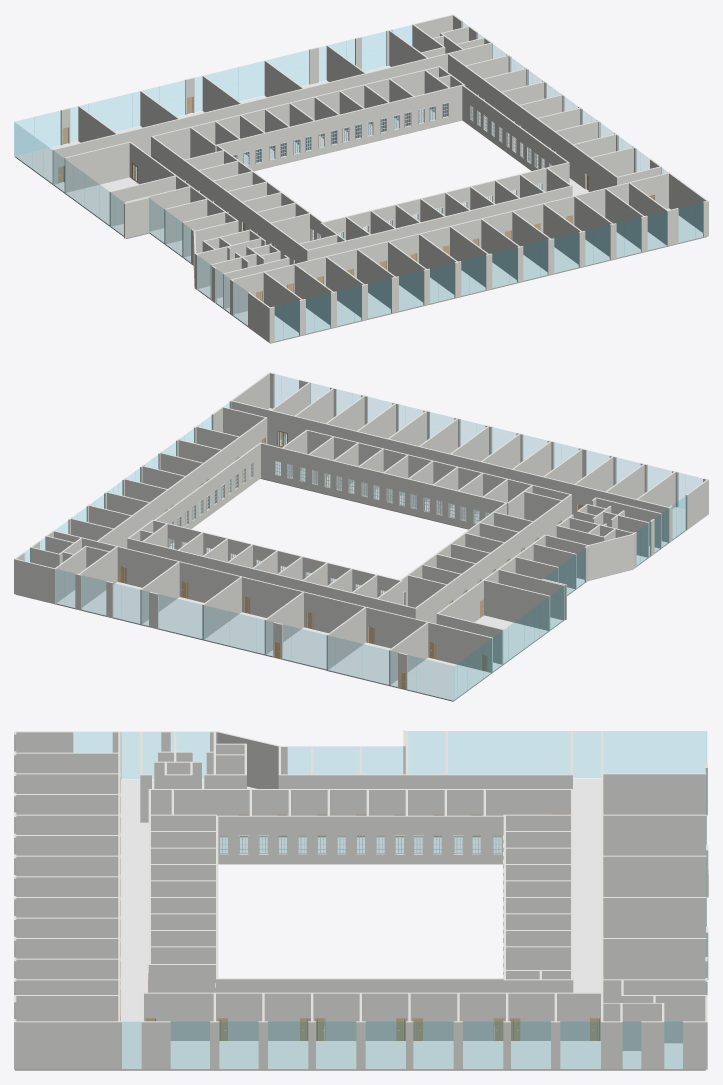
The model's file is 4楼墙体.gltf.
3 renders of one model, top to bottom at view 1: azimuth 30°, elevation 25°; view 2: azimuth 150°, elevation 25°; view 3: azimuth 270°, elevation 25°, orthographic. The views are drawn at different scales.
Parts seen in each view (by area): view 1: 常规 - 200mm [476818], 常规 - 200mm [733617], 常规 - 200mm [466333], 常规 140 - 20+120 [759509], 常规 - 200mm [487103], 常规 - 200mm [484412], 常规 - 200mm [484968], 常规 140 - 20+120 [762532], 常规 - 200mm [485400], 常规 - 200mm [733270], 常规 - 200mm [732928], 常规 - 200mm [470344] (+45 smaller); view 2: 常规 - 200mm [466333], 常规 - 200mm [732928], 常规 140 - 20+120 [760655], 常规 140 - 20+120 [759509], 常规 - 200mm [476818], 常规 - 200mm [484968], 常规 - 200mm [487103], 常规 - 200mm [484412], 常规 - 200mm [485400], 常规 - 200mm [733617], 常规 - 200mm [733270], 常规 - 200mm [493552] (+47 smaller); view 3: 常规 - 200mm [487103], 常规 - 200mm [732215], 常规 - 200mm [484968], 常规 140 - 20+120 [761496], 常规 140 - 20+120 [760655], 常规 140 - 20+120 [759509], 常规 - 200mm [750346], 常规 - 200mm [470147], 常规 - 200mm [474949], 常规 - 200mm [494692], 常规 - 200mm [494536], 常规 140 - 20+120 [762532] (+53 smaller).
Part boxes in pixels (x1,y1,x2,y2): 常规 - 200mm [476818]: [232, 173, 668, 313]; 常规 - 200mm [733617]: [217, 85, 462, 170]; 常规 - 200mm [466333]: [52, 43, 491, 184]; 常规 140 - 20+120 [759509]: [15, 126, 396, 343]; 常规 - 200mm [487103]: [448, 53, 617, 191]; 常规 - 200mm [484412]: [151, 66, 438, 161]; 常规 - 200mm [484968]: [152, 136, 308, 264]; 常规 140 - 20+120 [762532]: [396, 232, 643, 312]; 常规 - 200mm [485400]: [308, 185, 572, 260]; 常规 - 200mm [733270]: [462, 85, 567, 170]; 常规 - 200mm [732928]: [323, 162, 569, 239]; 常规 - 200mm [470344]: [64, 142, 129, 192]; 常规 - 200mm [466333]: [54, 531, 492, 672]; 常规 - 200mm [732928]: [260, 442, 505, 528]; 常规 140 - 20+120 [760655]: [16, 582, 328, 670]; 常规 140 - 20+120 [759509]: [326, 507, 686, 701]; 常规 - 200mm [476818]: [231, 400, 668, 542]; 常规 - 200mm [484968]: [415, 494, 571, 623]; 常规 - 200mm [487103]: [97, 418, 266, 548]; 常规 - 200mm [484412]: [128, 538, 416, 618]; 常规 - 200mm [485400]: [306, 429, 569, 501]; 常规 - 200mm [733617]: [155, 520, 400, 597]; 常规 - 200mm [733270]: [155, 443, 260, 544]; 常规 - 200mm [493552]: [484, 580, 550, 631]; 常规 - 200mm [487103]: [144, 992, 600, 1040]; 常规 - 200mm [732215]: [216, 815, 503, 863]; 常规 - 200mm [484968]: [148, 789, 570, 837]; 常规 140 - 20+120 [761496]: [15, 1026, 505, 1070]; 常规 140 - 20+120 [760655]: [506, 863, 705, 1070]; 常规 140 - 20+120 [759509]: [121, 779, 600, 864]; 常规 - 200mm [750346]: [16, 1021, 121, 1069]; 常规 - 200mm [470147]: [281, 774, 572, 788]; 常规 - 200mm [474949]: [603, 773, 706, 814]; 常规 - 200mm [494692]: [603, 855, 706, 896]; 常规 - 200mm [494536]: [603, 814, 706, 855]; 常规 140 - 20+120 [762532]: [121, 863, 148, 1026].
Size of the model in its own units: 59.6 by 4.64 by 59.9.
